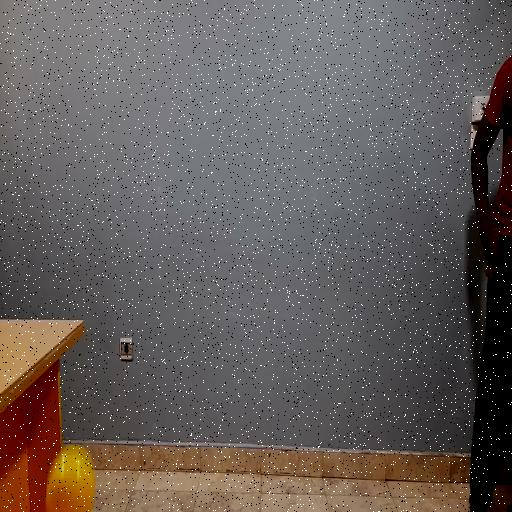plastic-ball: (44, 442, 96, 512)
